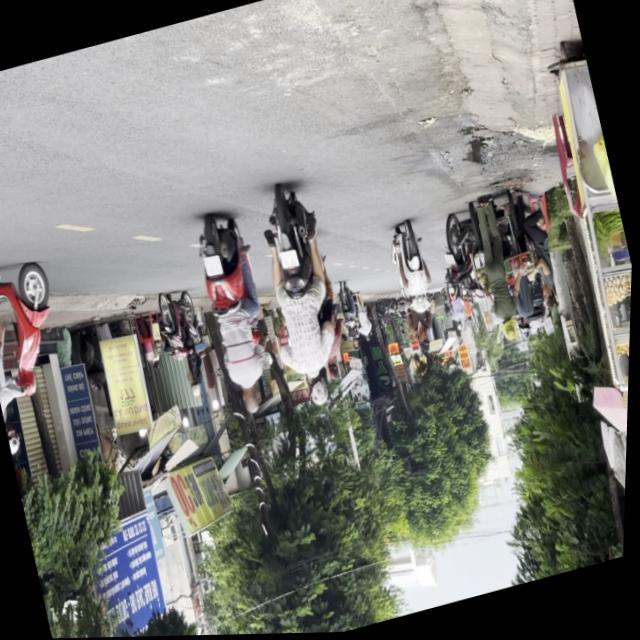helmet: (305, 374, 333, 410), (4, 417, 24, 456)
licenseplate: (243, 179, 363, 416), (182, 207, 291, 424), (0, 242, 91, 458), (379, 217, 452, 361)
motorcyclist: (240, 385, 263, 419)
nohelmet: (279, 249, 300, 272), (203, 254, 223, 278)
